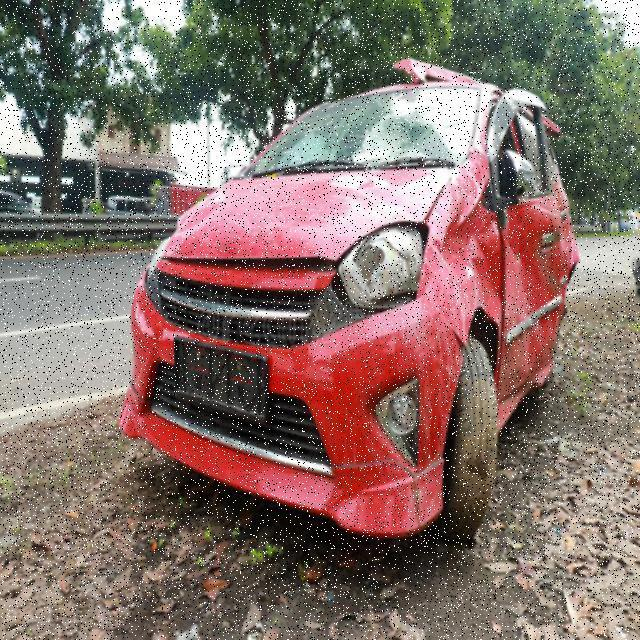doorouter-dent: (503, 203, 562, 389)
fender-dent: (422, 166, 499, 336)
